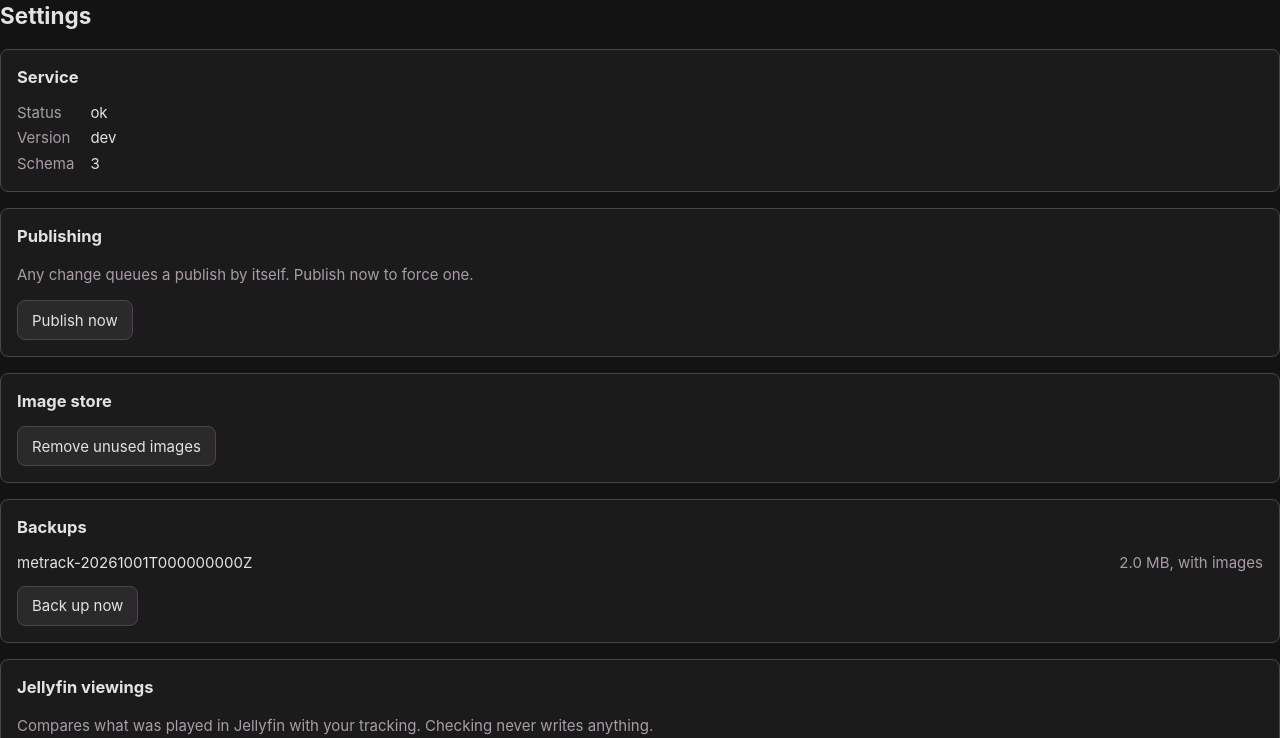
Test: SettingsView backups › creates a backup and refreshes the list
Step 1. Click the button "Back up now" → (78, 606), box [17,586,138,626]
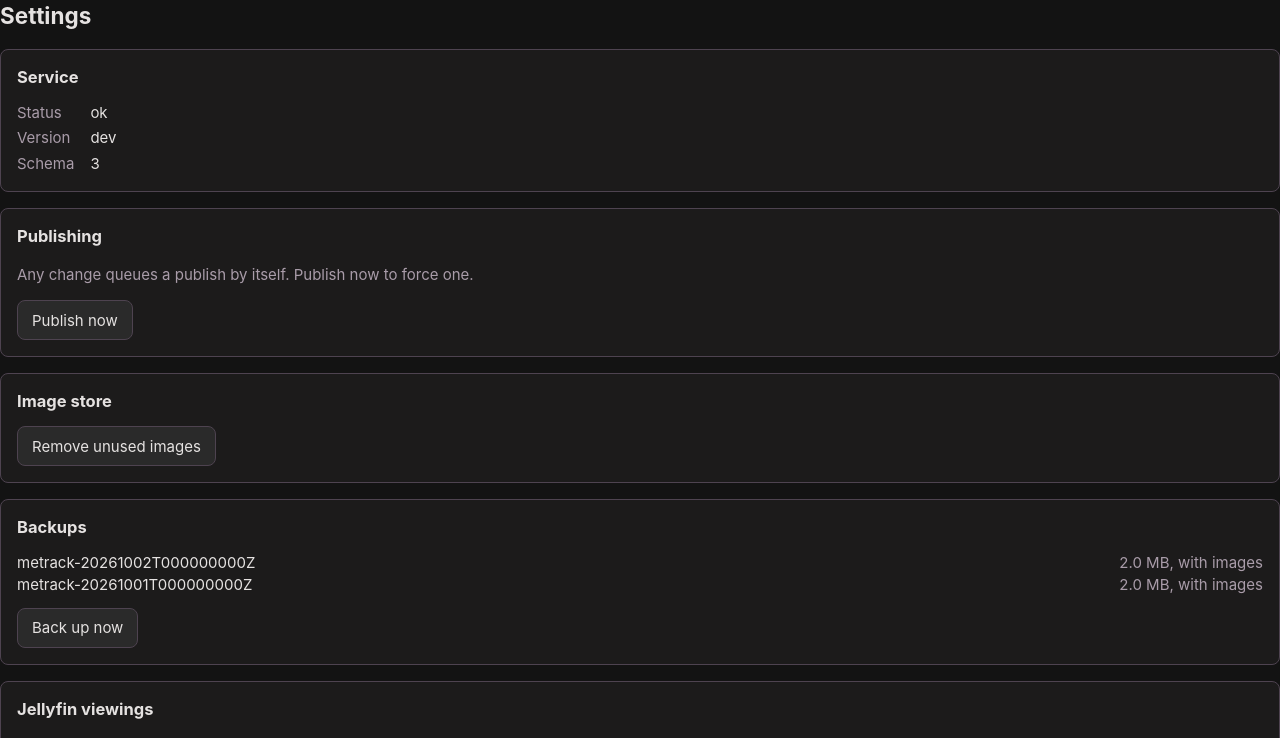
Expected: the number of list items is 2, [17,552,1263,574]; [17,574,1263,596]
